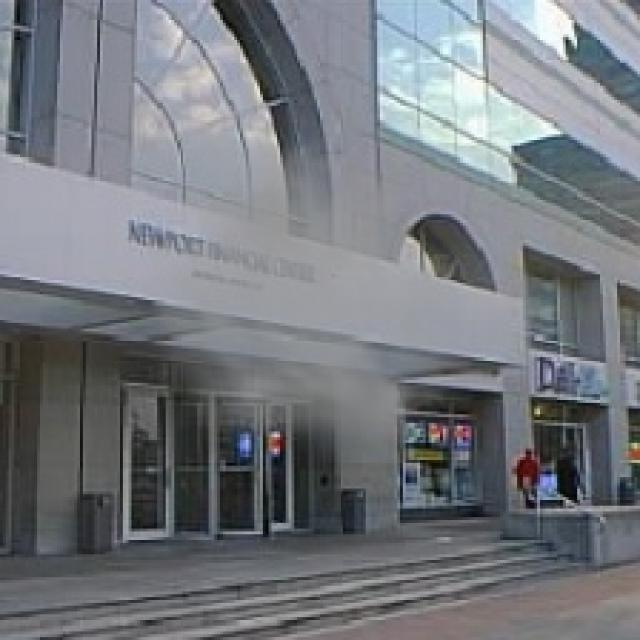smoke: (123, 106, 497, 463)
